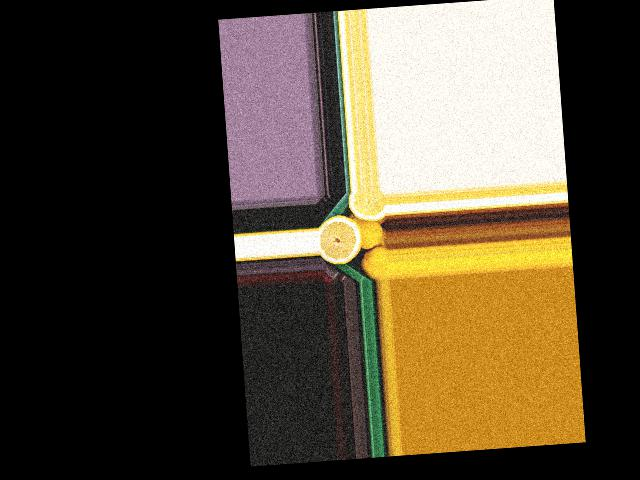lemon: (351, 214, 385, 249)
